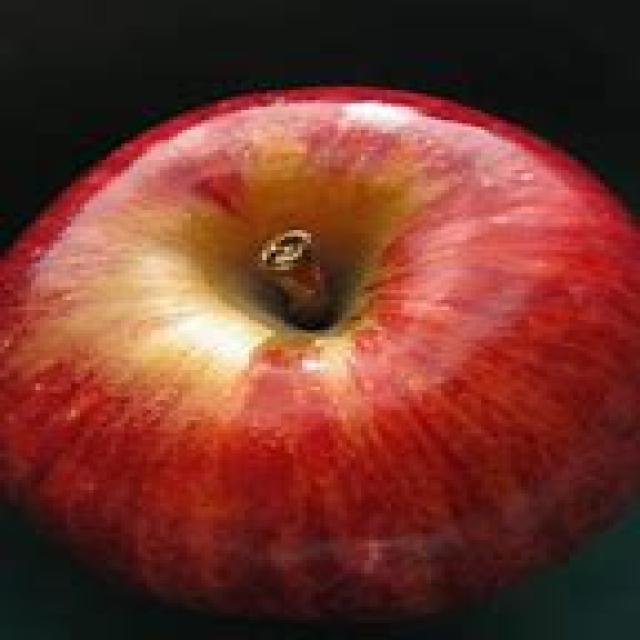apple: (0, 85, 640, 630)
